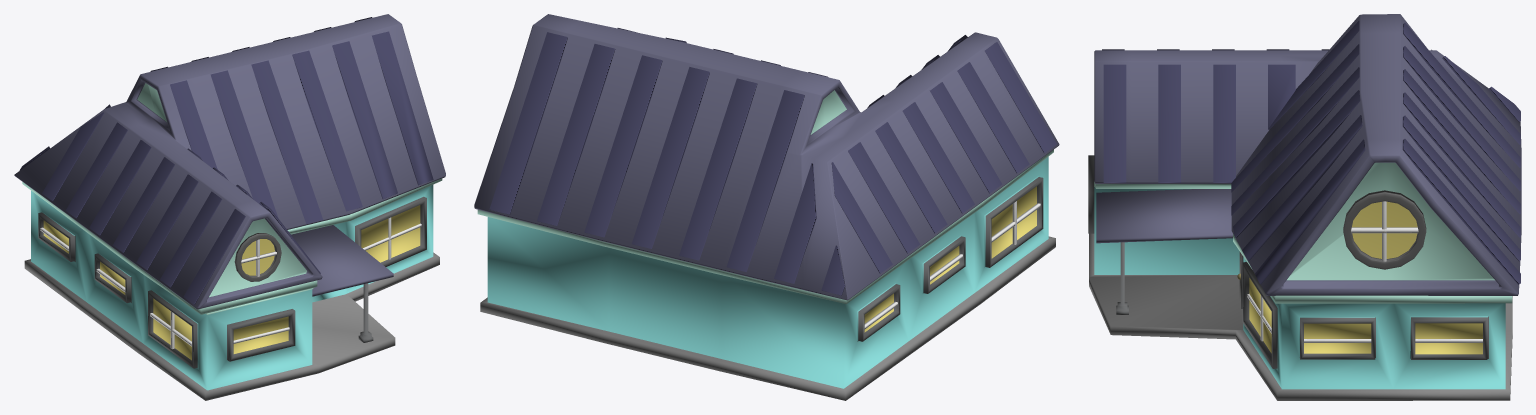
The model's file is HOUSE.glb.
The picture shows the model from 3 angles, left to right: view 1: azimuth 30°, elevation 25°; view 2: azimuth 150°, elevation 25°; view 3: azimuth 270°, elevation 25°; orthographic projection. The views are drawn at different scales.
Parts seen in each view (by area): view 1: Cube.001, Cube, Cube.017, Cube.018, Cylinder, Cube.019; view 2: Cube.001, Cube, Cube.020, Cube.018; view 3: Cube.001, Cube, Cube.020, Cube.017, Cube.019, Cylinder.001, Cube.013.
Boxes of the visible parts, <box> form: Cube.001: <box>14,14,445,309</box>; Cube: <box>22,178,442,400</box>; Cube.017: <box>170,31,433,223</box>; Cube.018: <box>42,112,245,304</box>; Cylinder: <box>234,233,281,281</box>; Cube.019: <box>187,148,320,273</box>; Cube.001: <box>474,14,1059,300</box>; Cube: <box>477,149,1055,400</box>; Cube.020: <box>489,32,844,295</box>; Cube.018: <box>831,42,1056,273</box>; Cube.001: <box>1094,14,1521,295</box>; Cube: <box>1088,155,1512,400</box>; Cube.020: <box>1402,23,1520,284</box>; Cube.017: <box>1231,21,1365,284</box>; Cube.019: <box>1103,64,1295,182</box>; Cylinder.001: <box>1343,190,1426,269</box>; Cube.013: <box>1351,227,1418,233</box>.
Bounding box in the file's own units: 8.46 × 5.3 × 8.42.
